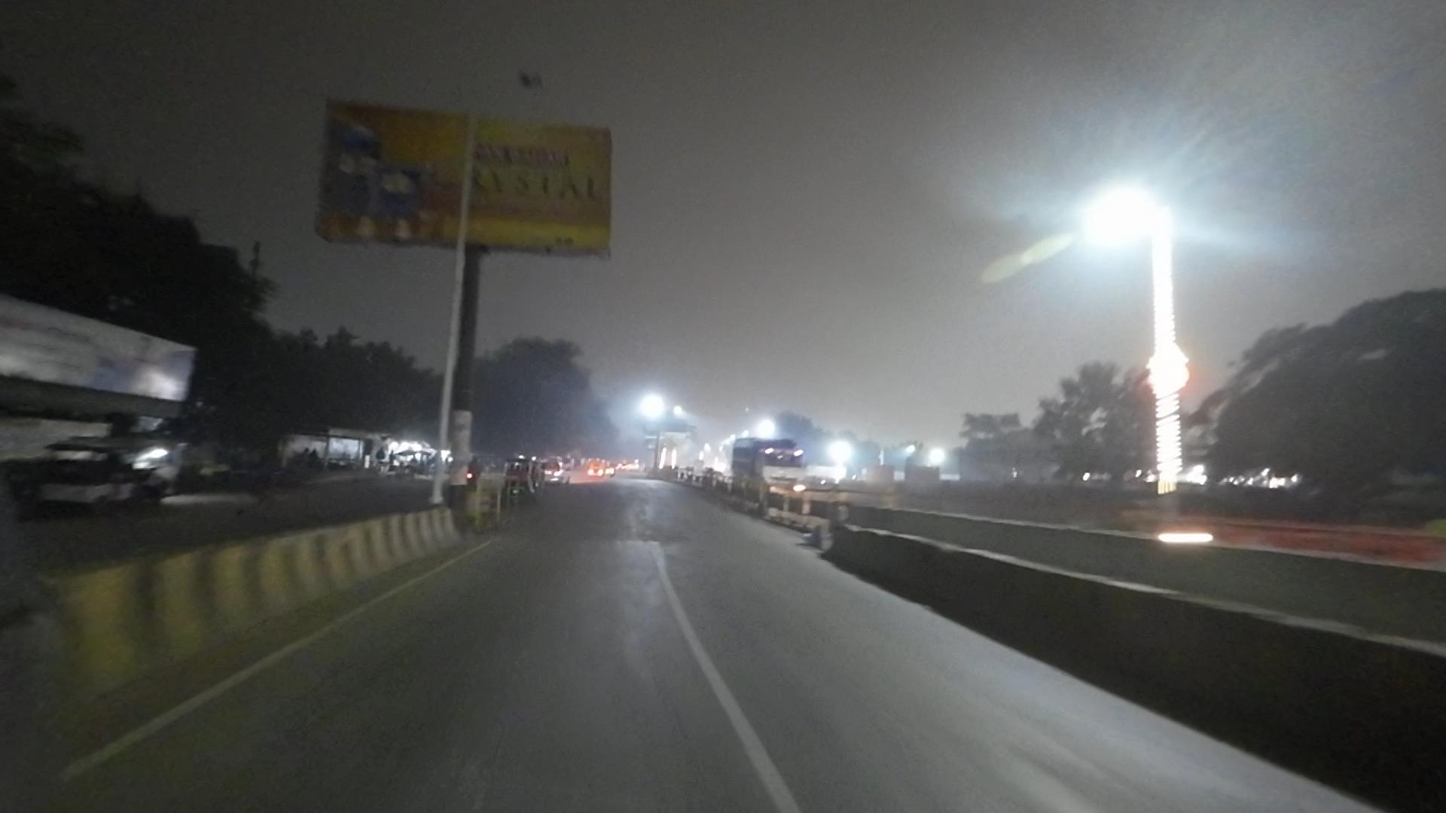streetlight: (495, 69, 545, 90)
